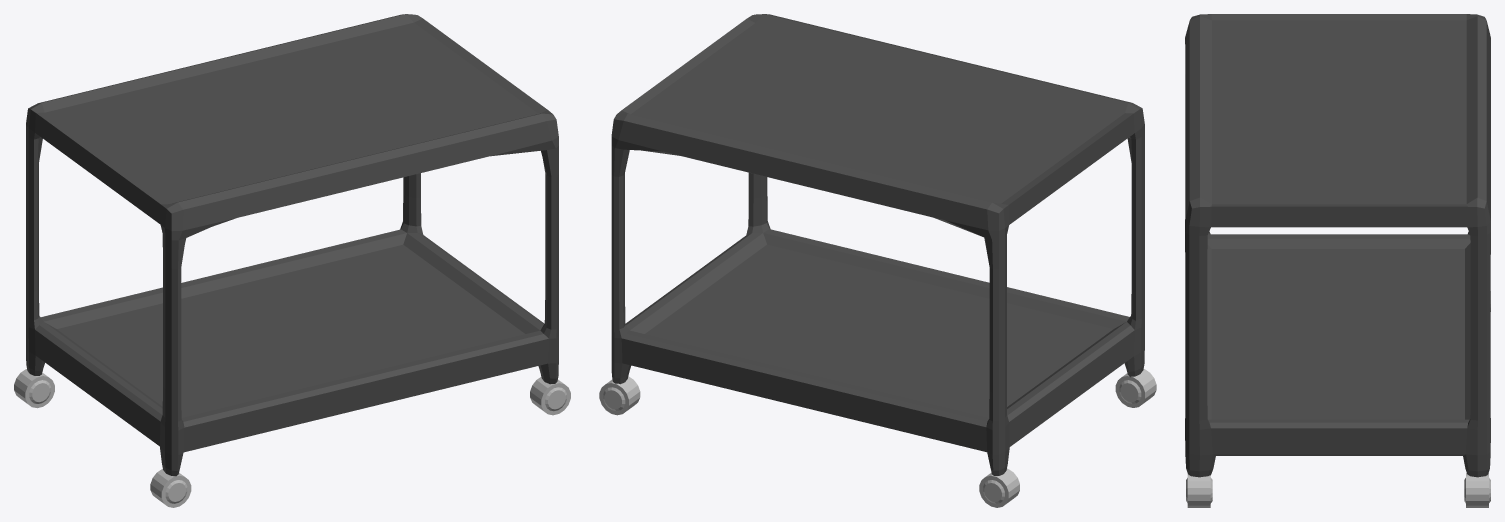
File: Props_BoxStroller.fbx
The picture shows the model from 3 angles, left to right: view 1: azimuth 30°, elevation 25°; view 2: azimuth 150°, elevation 25°; view 3: azimuth 270°, elevation 25°; orthographic projection. The views are drawn at different scales.
Parts seen in each view (by area): view 1: Props_BoxStroller; view 2: Props_BoxStroller; view 3: Props_BoxStroller.
Part boxes in pixels (x1=…): Props_BoxStroller: x1=14, y1=14, x2=570, y2=507; Props_BoxStroller: x1=599, y1=14, x2=1156, y2=507; Props_BoxStroller: x1=1185, y1=14, x2=1490, y2=507.
Size of the model in its own units: 157 by 109 by 99.48.
